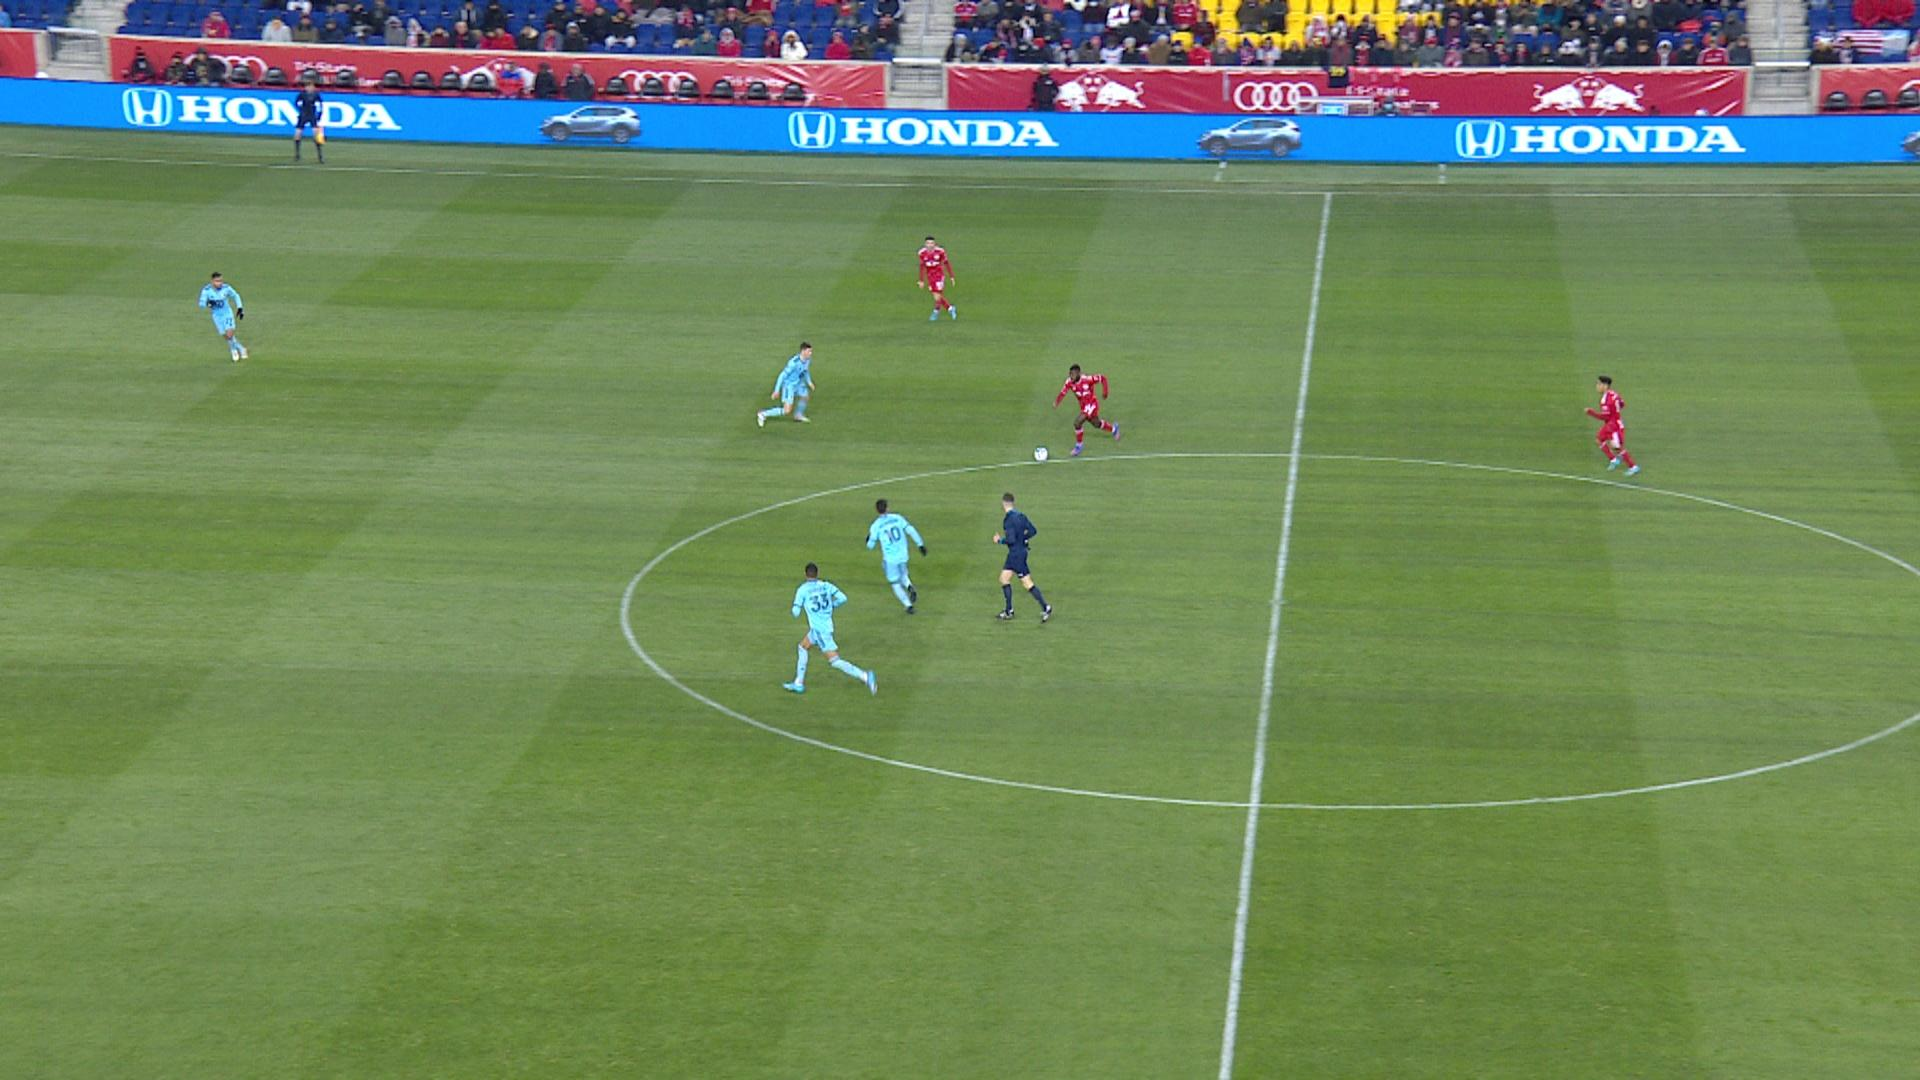football: (1033, 444, 1050, 462)
